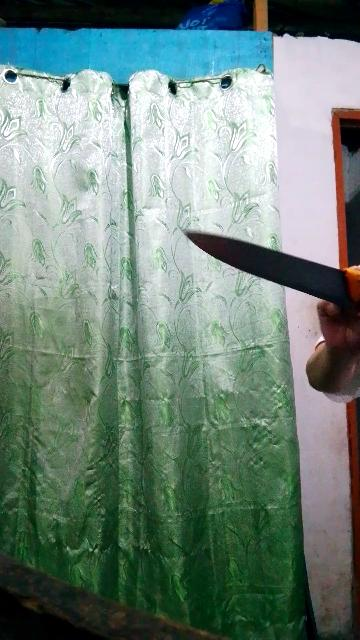long knife: (180, 208, 360, 322)
